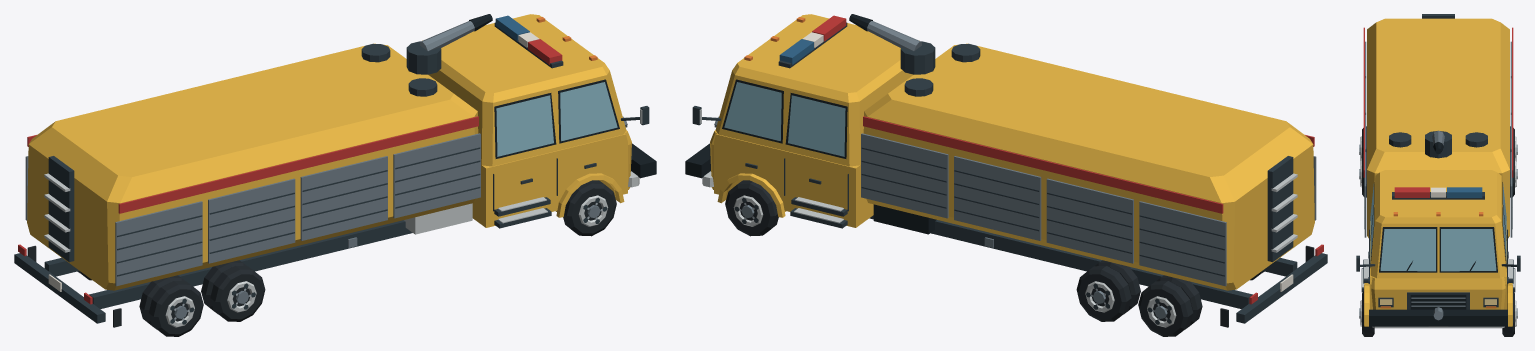
Rendered from b15_airport_crash_tender.glb.
The picture shows the model from 3 angles, left to right: view 1: azimuth 30°, elevation 25°; view 2: azimuth 150°, elevation 25°; view 3: azimuth 270°, elevation 25°; orthographic projection. The views are drawn at different scales.
Visible parts, largest first — view 1: b15_airport_crash_tender; view 2: b15_airport_crash_tender; view 3: b15_airport_crash_tender.
Part boxes in pixels (left/top/right/bottom): b15_airport_crash_tender: left=14, top=14, right=656, bottom=336; b15_airport_crash_tender: left=685, top=14, right=1327, bottom=336; b15_airport_crash_tender: left=1356, top=14, right=1520, bottom=336.
Bounding box in the file's own units: 10.94 × 3.7 × 3.36.
